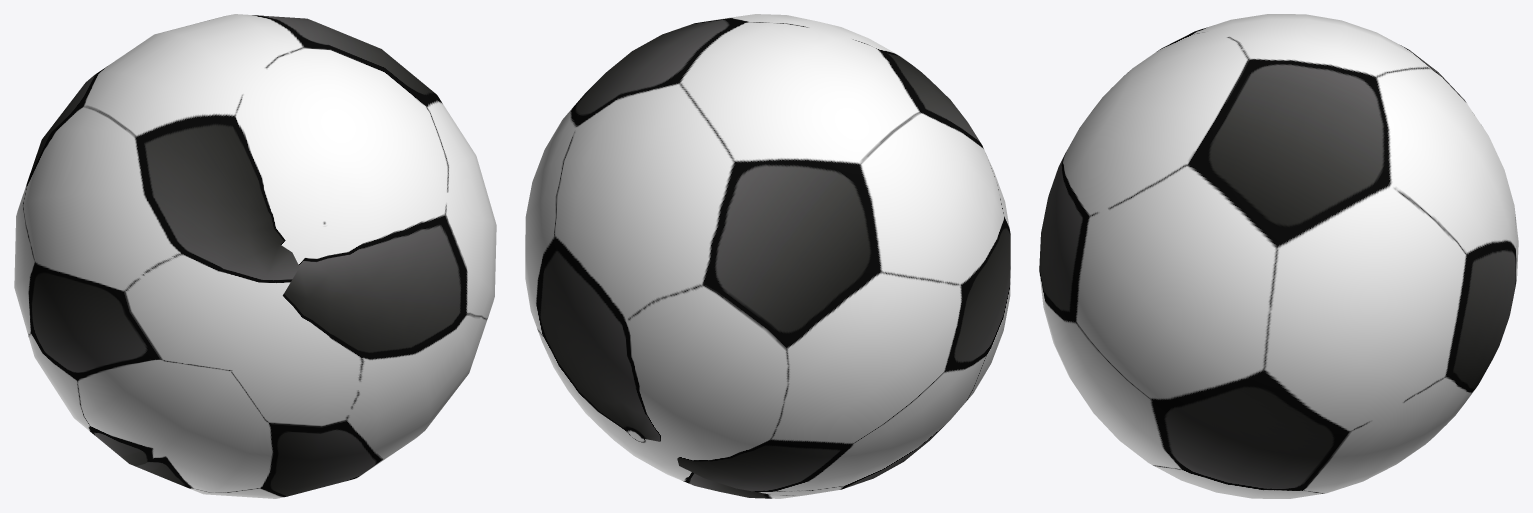
The model's file is Football_Ball.fbx.
3 views of the same model, side by side, from view 1: azimuth 30°, elevation 25°; view 2: azimuth 150°, elevation 25°; view 3: azimuth 270°, elevation 25° (orthographic).
Parts seen in each view (by area): view 1: pSphere27; view 2: pSphere27; view 3: pSphere27.
Part boxes in pixels (<box>): pSphere27: <box>14,14,496,498</box>; pSphere27: <box>525,14,1010,498</box>; pSphere27: <box>1039,14,1518,498</box>.
Bounding box in the file's own units: 10.72 × 10.69 × 10.56.
